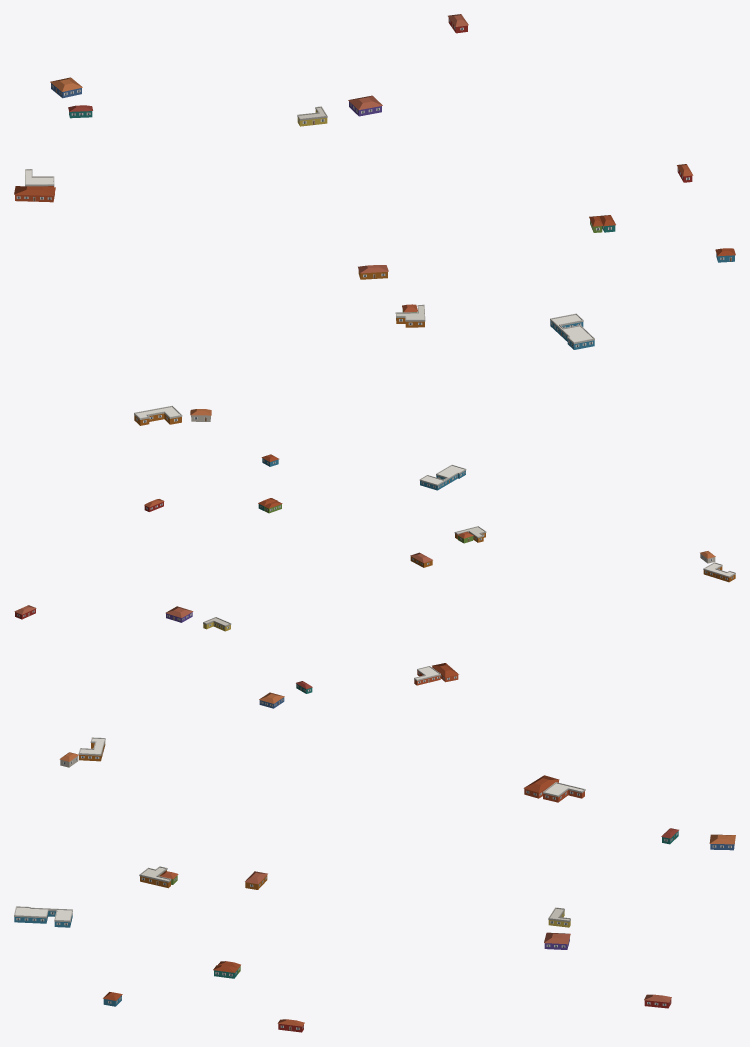
The model's file is msb_sannicolas_15_22.glb.
3 renders of one model, top to bottom at view 1: azimuth 30°, elevation 25°; view 2: azimuth 150°, elevation 25°; view 3: azimuth 270°, elevation 25°, orthographic. The views are drawn at different scales.
Parts seen in each view (by area): view 1: msb_sannicolas_15_22_lod0; view 2: msb_sannicolas_15_22_lod0; view 3: msb_sannicolas_15_22_lod0.
Boxes of the visible parts, bbox=[...] form: msb_sannicolas_15_22_lod0: bbox=[14, 14, 735, 425]; msb_sannicolas_15_22_lod0: bbox=[14, 454, 735, 708]; msb_sannicolas_15_22_lod0: bbox=[14, 737, 735, 1032].
Size of what is drawn, in the model's own units: 358 by 17.1 by 366.
Materials: 3 (1 with a texture image).
